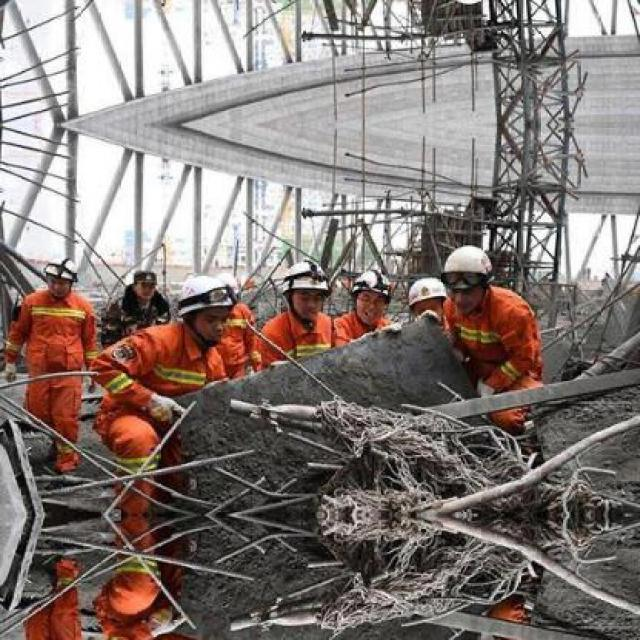Reflective-Jacket: (89, 319, 243, 423), (438, 285, 548, 392), (14, 287, 97, 384), (260, 308, 343, 367)
Safety-Helmet: (168, 265, 248, 321), (434, 237, 501, 284), (275, 253, 334, 299), (401, 270, 454, 313), (343, 264, 397, 304), (37, 246, 85, 286), (117, 261, 161, 293)
